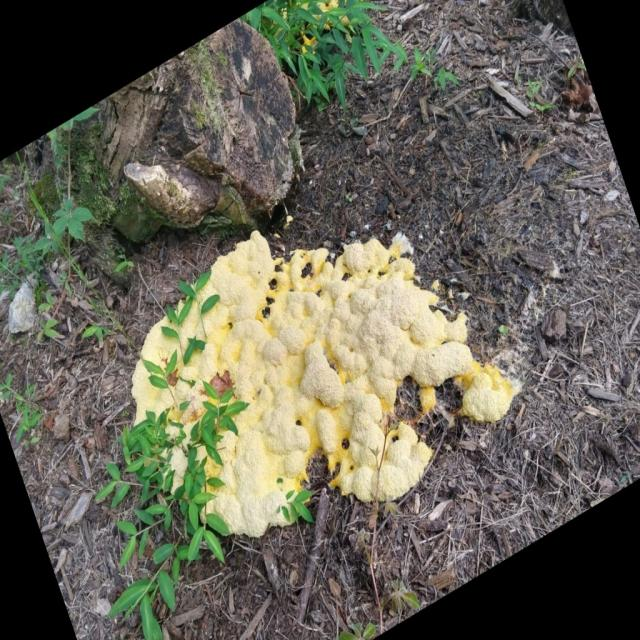Dog_vomit_slime_mold: (114, 226, 511, 530)
